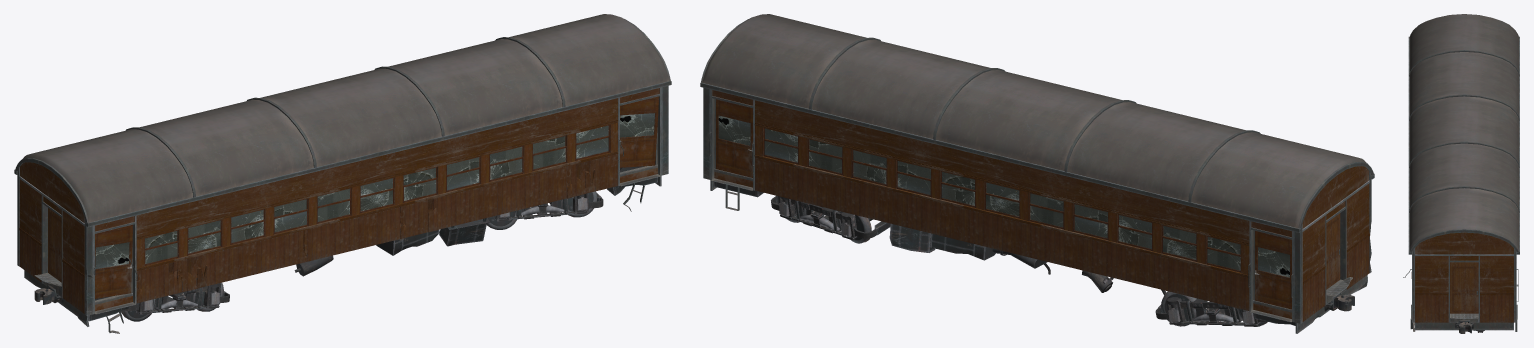
The model's file is Train_Center.fbx.
3 renders of one model, left to right at view 1: azimuth 30°, elevation 25°; view 2: azimuth 150°, elevation 25°; view 3: azimuth 270°, elevation 25°, orthographic. The views are drawn at different scales.
Parts seen in each view (by area): view 1: SM_d_114_BrokenLocomotive_03a; view 2: SM_d_114_BrokenLocomotive_03a; view 3: SM_d_114_BrokenLocomotive_03a.
Part boxes in pixels (<box>): SM_d_114_BrokenLocomotive_03a: <box>14,14,671,333</box>; SM_d_114_BrokenLocomotive_03a: <box>700,14,1374,333</box>; SM_d_114_BrokenLocomotive_03a: <box>1403,14,1519,333</box>.
Bounding box in the file's own units: 1840 × 502 × 402.
